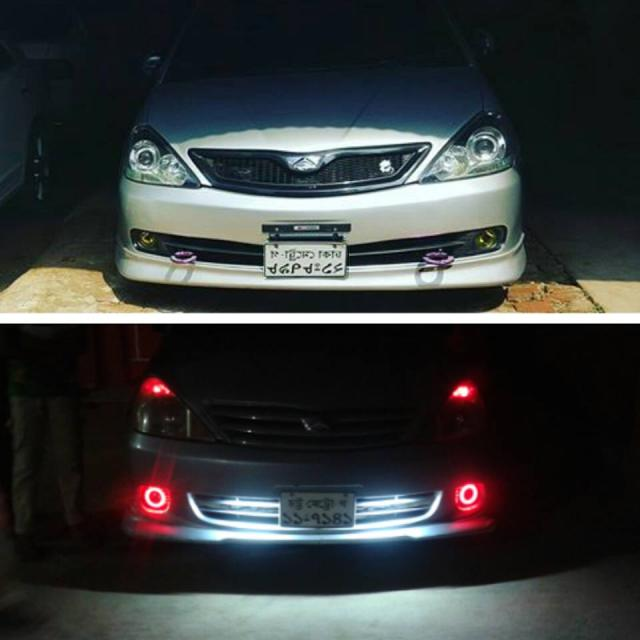numberplate: (263, 240, 349, 279), (278, 489, 355, 529)
